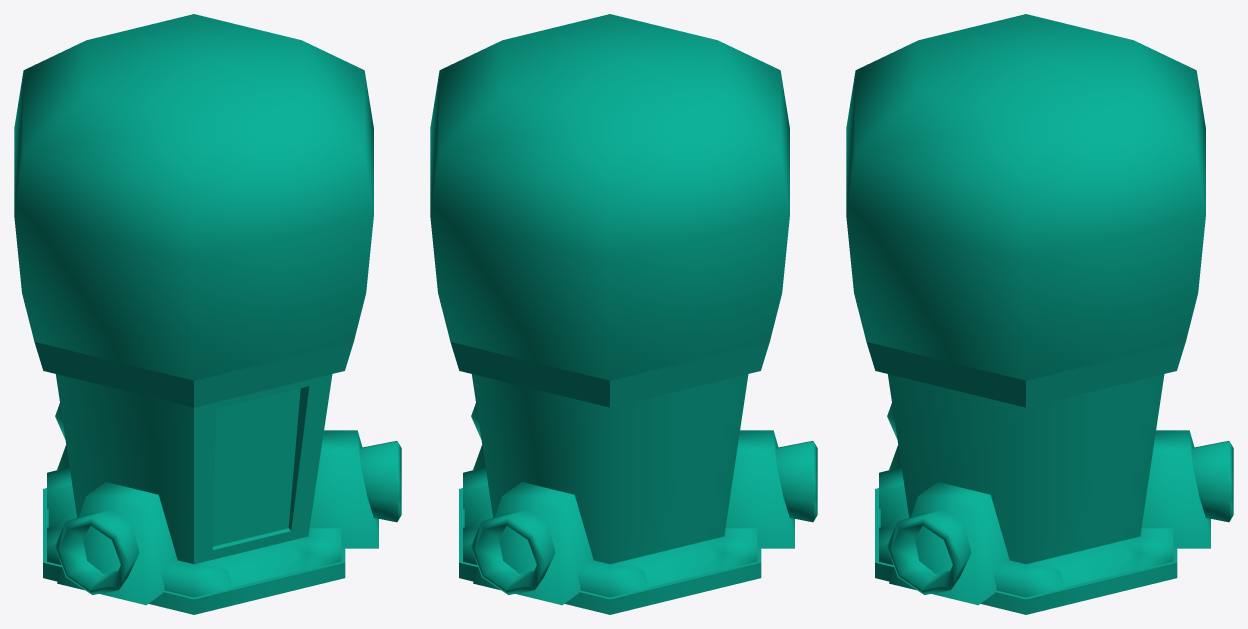
File: (TO TEX) Hydroponic Farm -- Low (MAP).FBX
The picture shows the model from 3 angles, left to right: view 1: azimuth 30°, elevation 25°; view 2: azimuth 150°, elevation 25°; view 3: azimuth 270°, elevation 25°; orthographic projection.
Parts seen in each view (by area): view 1: Glass Dome, Building, Construction Base; view 2: Glass Dome, Building, Construction Base; view 3: Glass Dome, Building, Construction Base.
Boxes of the visible parts, bbox=[...] form: Glass Dome: bbox=[14, 14, 373, 380]; Building: bbox=[34, 342, 401, 605]; Construction Base: bbox=[43, 488, 345, 614]; Glass Dome: bbox=[430, 14, 789, 380]; Building: bbox=[450, 342, 817, 605]; Construction Base: bbox=[459, 488, 761, 614]; Glass Dome: bbox=[846, 14, 1205, 380]; Building: bbox=[866, 342, 1233, 605]; Construction Base: bbox=[875, 488, 1177, 614].
Bounding box in the file's own units: 76.86 × 99.59 × 71.69.
